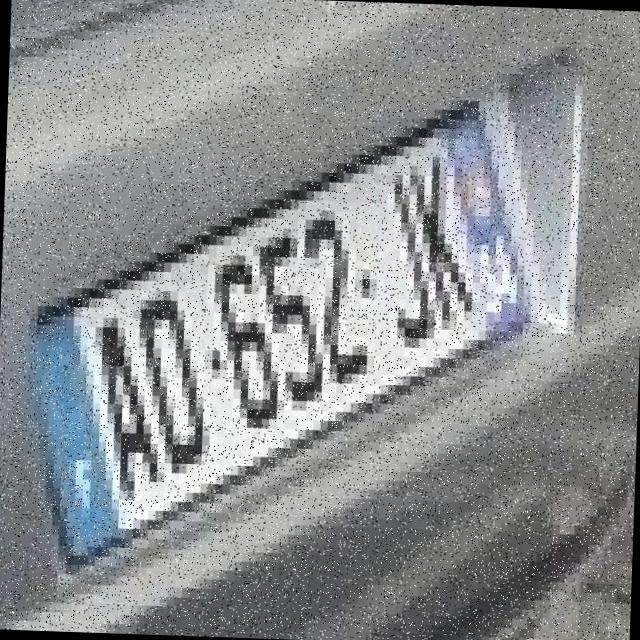LicensePlate: (1, 60, 578, 612)
